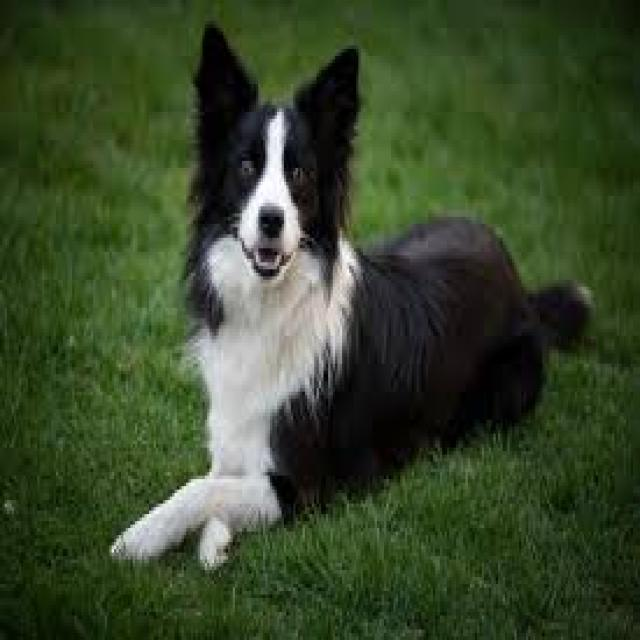BORDER_COLLIE: (101, 4, 597, 612)
